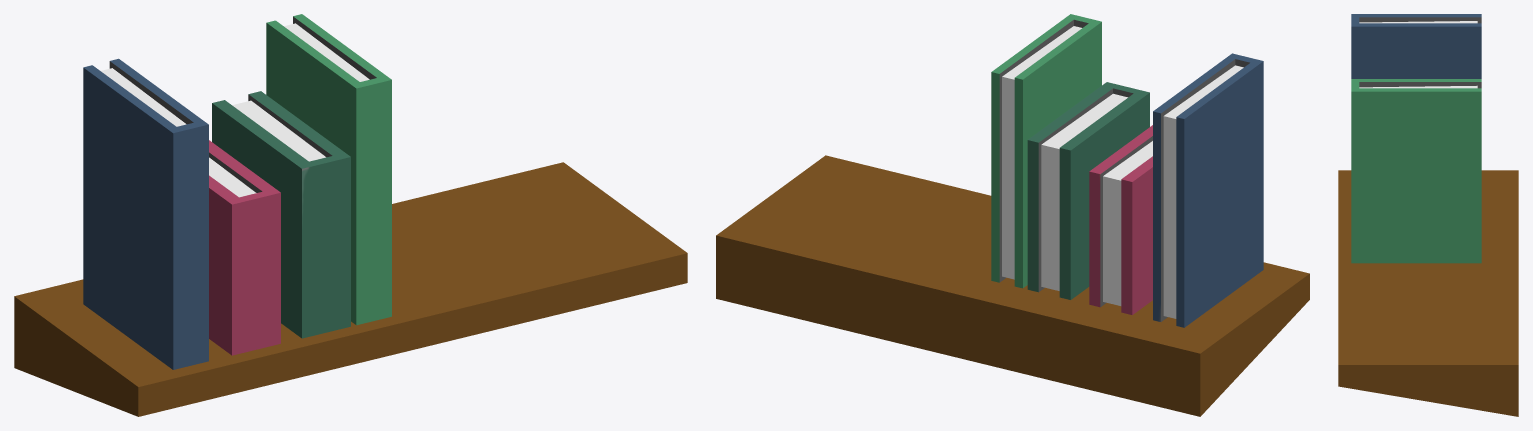
File: sm_BookShelf2.fbx
3 renders of one model, left to right at view 1: azimuth 30°, elevation 25°; view 2: azimuth 150°, elevation 25°; view 3: azimuth 270°, elevation 25°, orthographic. The views are drawn at different scales.
Visible parts, largest first — view 1: Cube.030, Cube.038, Cube.035, Cube.033, Cube.031; view 2: Cube.030, Cube.038, Cube.035, Cube.033, Cube.031; view 3: Cube.030, Cube.035, Cube.038.
Part boxes in pixels (x1,y1,x2,y2): Cube.030: (14,162,687,416); Cube.038: (83,58,208,369); Cube.035: (266,14,391,325); Cube.033: (212,91,350,338); Cube.031: (209,140,280,355); Cube.030: (716,155,1309,416); Cube.038: (1153,53,1263,327); Cube.035: (991,14,1101,288); Cube.033: (1027,82,1149,299); Cube.031: (1089,125,1152,314); Cube.030: (1338,170,1518,416); Cube.035: (1351,79,1481,263); Cube.038: (1351,14,1481,78).
Size of the model in its own units: 83.45 by 44.8 by 32.7.
